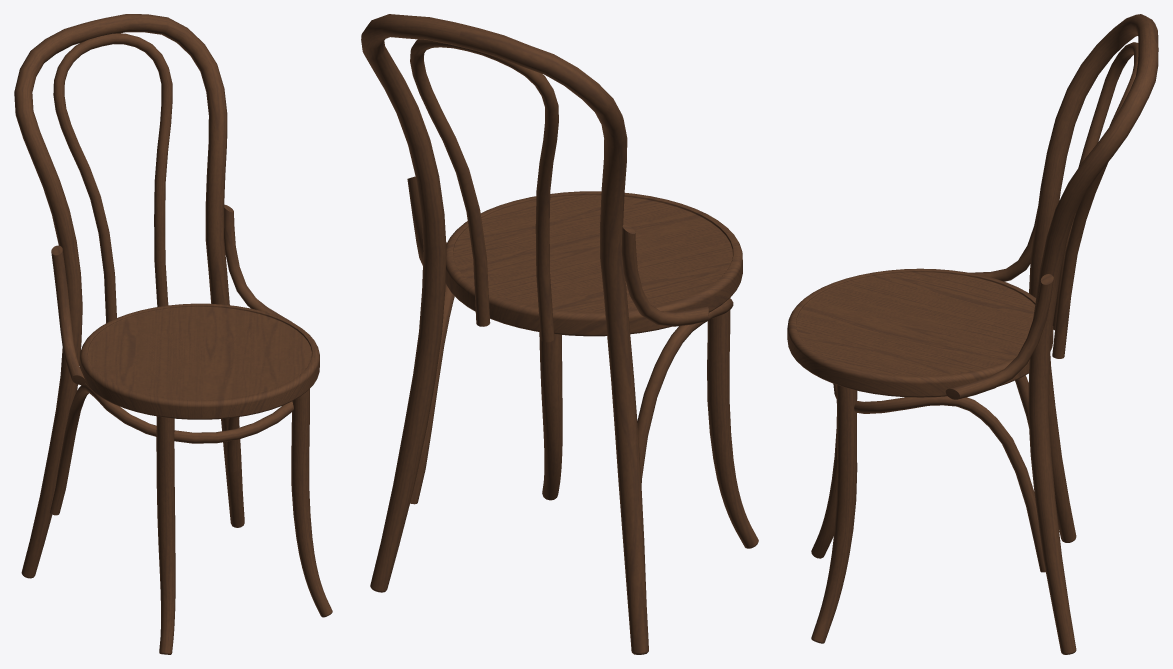
File: chair_59_04.001.fbx
3 renders of one model, left to right at view 1: azimuth 30°, elevation 25°; view 2: azimuth 150°, elevation 25°; view 3: azimuth 270°, elevation 25°, orthographic. The views are drawn at different scales.
Visible parts, largest first — view 1: chair_59_04.001; view 2: chair_59_04.001; view 3: chair_59_04.001.
Part boxes in pixels (left/top/right/bottom): chair_59_04.001: left=14, top=14, right=332, bottom=654; chair_59_04.001: left=361, top=14, right=758, bottom=654; chair_59_04.001: left=787, top=14, right=1158, bottom=654.
Size of the model in its own units: 41.34 by 90.44 by 54.16.
1 material, 1 textured.
